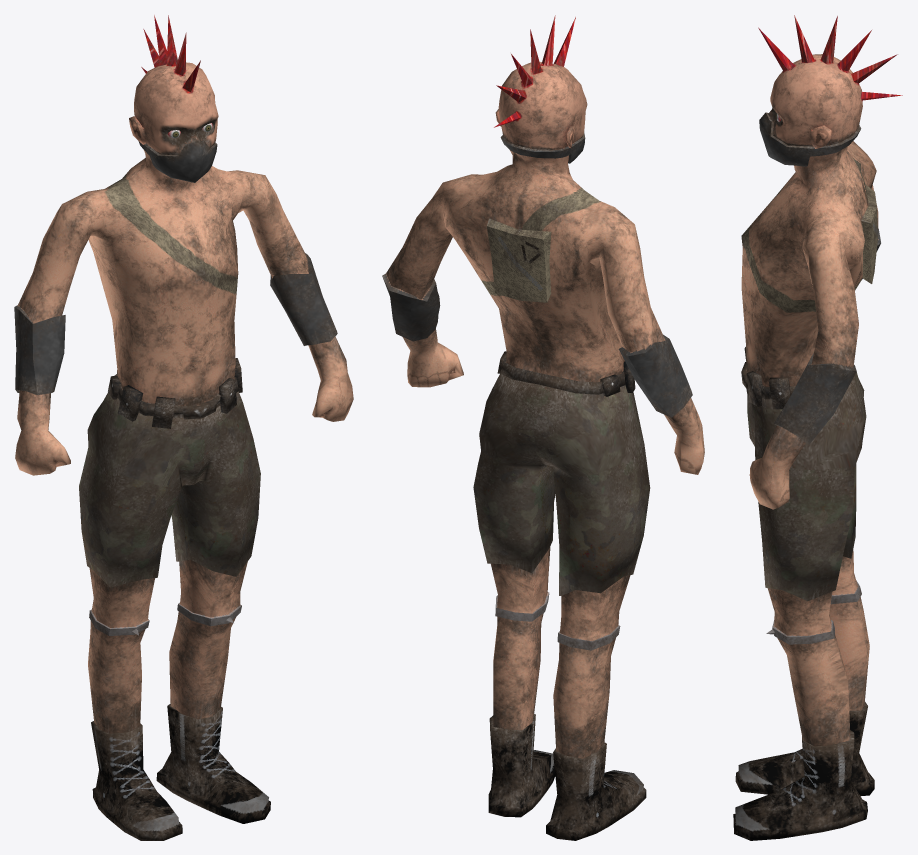
Rendered from Anim_interruptor_npc2.0016.obj.
3 renders of one model, left to right at view 1: azimuth 30°, elevation 25°; view 2: azimuth 150°, elevation 25°; view 3: azimuth 270°, elevation 25°, orthographic. The views are drawn at different scales.
Parts seen in each view (by area): view 1: polySurface1; view 2: polySurface1; view 3: polySurface1.
Boxes of the visible parts, box(x1,y1,x2,y2) form: polySurface1: box(14, 15, 353, 840); polySurface1: box(382, 15, 704, 840); polySurface1: box(733, 15, 902, 840).
Bounding box in the file's own units: 4.3 × 10.17 × 1.97.
Materials: 2 (2 with a texture image).
